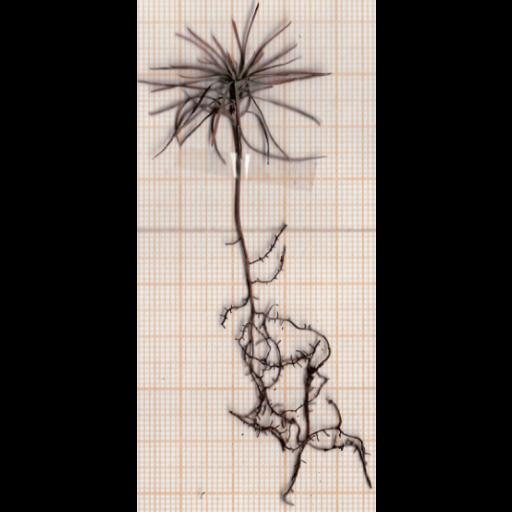flowerCedr: (150, 4, 324, 163)
rootCedr: (221, 229, 366, 502)
stemCedr: (233, 130, 244, 244)
